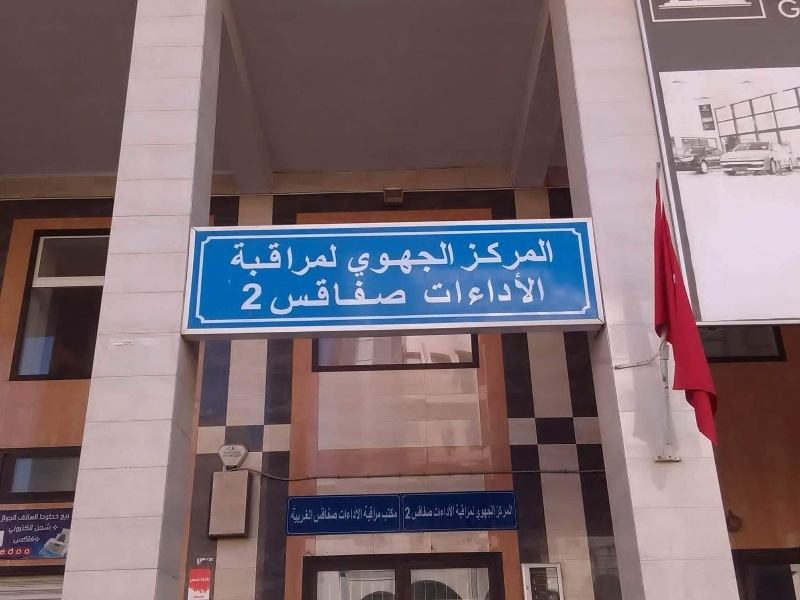text: (273, 278, 288, 317), (289, 278, 304, 317), (305, 278, 320, 317), (321, 278, 336, 317), (337, 278, 352, 317), (353, 278, 368, 317), (369, 278, 384, 317), (385, 278, 400, 317), (353, 240, 368, 277), (369, 240, 384, 277), (385, 240, 400, 277), (401, 240, 416, 277), (417, 240, 432, 277), (433, 240, 448, 277), (241, 241, 256, 278), (257, 241, 272, 278), (273, 241, 288, 278), (289, 241, 304, 278), (305, 241, 320, 278), (321, 241, 336, 278), (465, 238, 480, 273), (481, 238, 496, 273), (497, 238, 512, 273), (513, 238, 528, 273), (529, 238, 544, 273), (433, 271, 448, 306), (449, 271, 464, 306), (465, 271, 480, 306), (481, 271, 496, 306), (497, 271, 512, 306), (513, 271, 528, 306), (529, 271, 544, 306), (241, 283, 256, 311), (545, 238, 555, 273), (422, 271, 432, 306), (231, 241, 240, 278), (417, 505, 433, 522), (481, 504, 496, 522), (785, 1, 799, 20), (449, 240, 456, 277), (321, 507, 336, 524), (401, 278, 407, 317), (433, 504, 448, 519), (257, 283, 265, 311), (497, 505, 512, 519), (291, 508, 304, 524), (369, 506, 381, 523), (347, 240, 352, 277), (339, 507, 352, 521), (385, 508, 398, 522), (465, 504, 476, 520), (405, 506, 416, 520), (776, 1, 784, 20), (17, 525, 32, 535), (17, 535, 32, 545), (35, 522, 48, 533), (353, 507, 363, 521), (456, 504, 464, 520), (305, 508, 313, 524), (1, 515, 16, 523), (1, 548, 16, 556), (313, 507, 320, 524), (18, 513, 32, 521), (461, 238, 464, 273), (17, 548, 30, 556), (449, 504, 455, 519), (49, 513, 59, 522), (225, 452, 240, 458), (411, 505, 416, 522), (363, 506, 368, 523), (476, 504, 480, 522), (40, 513, 48, 522), (9, 525, 16, 535), (545, 271, 547, 306), (33, 513, 39, 521), (193, 577, 201, 583), (337, 241, 338, 278), (65, 514, 70, 521), (49, 522, 52, 533), (13, 535, 16, 545), (382, 508, 384, 522), (60, 514, 64, 521), (201, 577, 208, 581), (33, 535, 35, 545), (221, 452, 224, 458), (337, 507, 338, 524), (513, 505, 514, 519), (190, 577, 192, 583), (33, 525, 34, 535), (209, 577, 211, 581), (241, 452, 242, 458)
